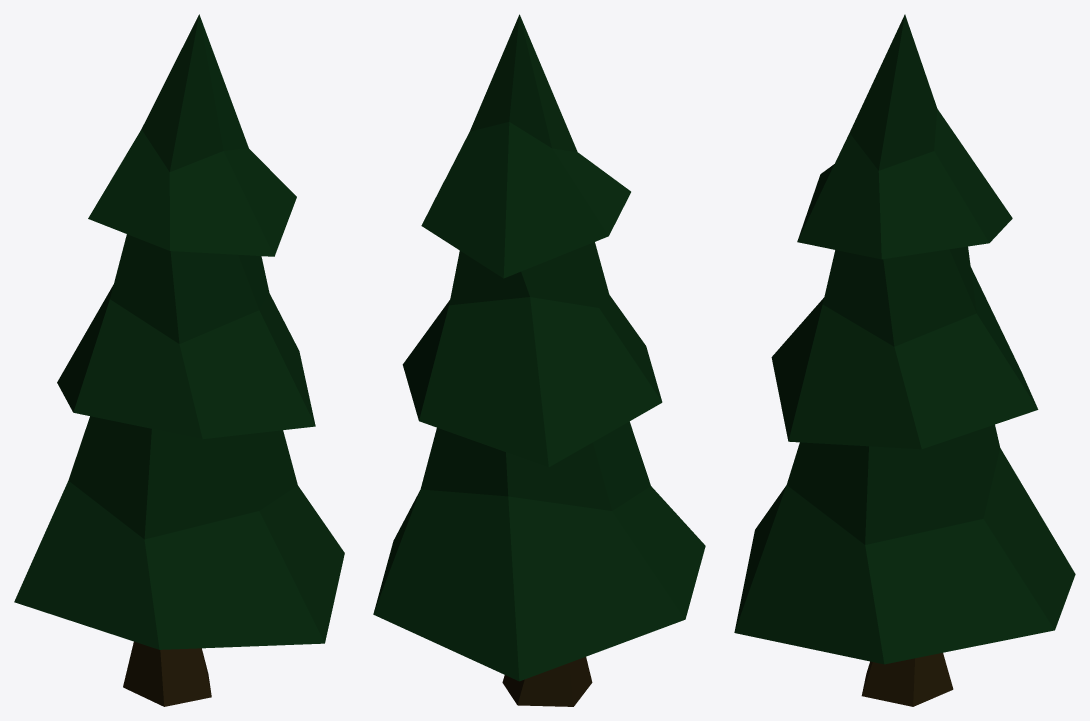
Rendered from tree8.fbx.
3 renders of one model, left to right at view 1: azimuth 30°, elevation 25°; view 2: azimuth 150°, elevation 25°; view 3: azimuth 270°, elevation 25°, orthographic. The views are drawn at different scales.
Parts seen in each view (by area): view 1: SpruceTree1_LOD0; view 2: SpruceTree1_LOD0; view 3: SpruceTree1_LOD0.
Part boxes in pixels (x1,y1,x2,y2): SpruceTree1_LOD0: [14, 14, 344, 706]; SpruceTree1_LOD0: [373, 14, 705, 706]; SpruceTree1_LOD0: [734, 14, 1075, 706].
Size of what is drawn, in the model's own units: 590 by 1209 by 544.
